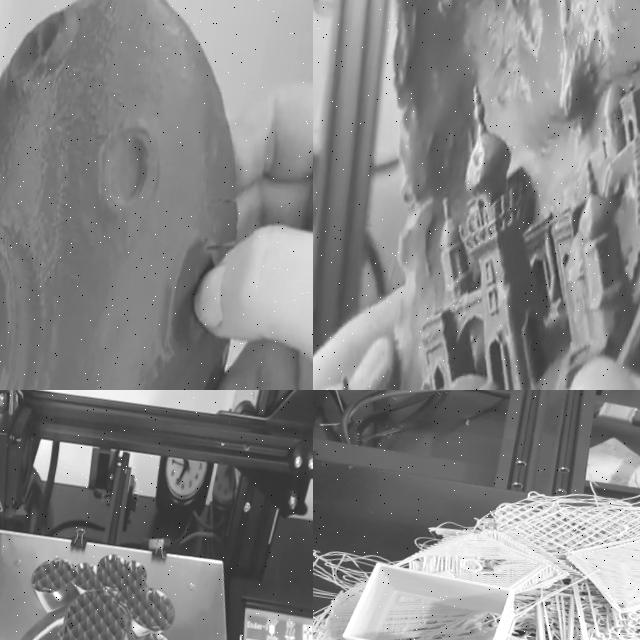spaghetti: (313, 515, 381, 619)
